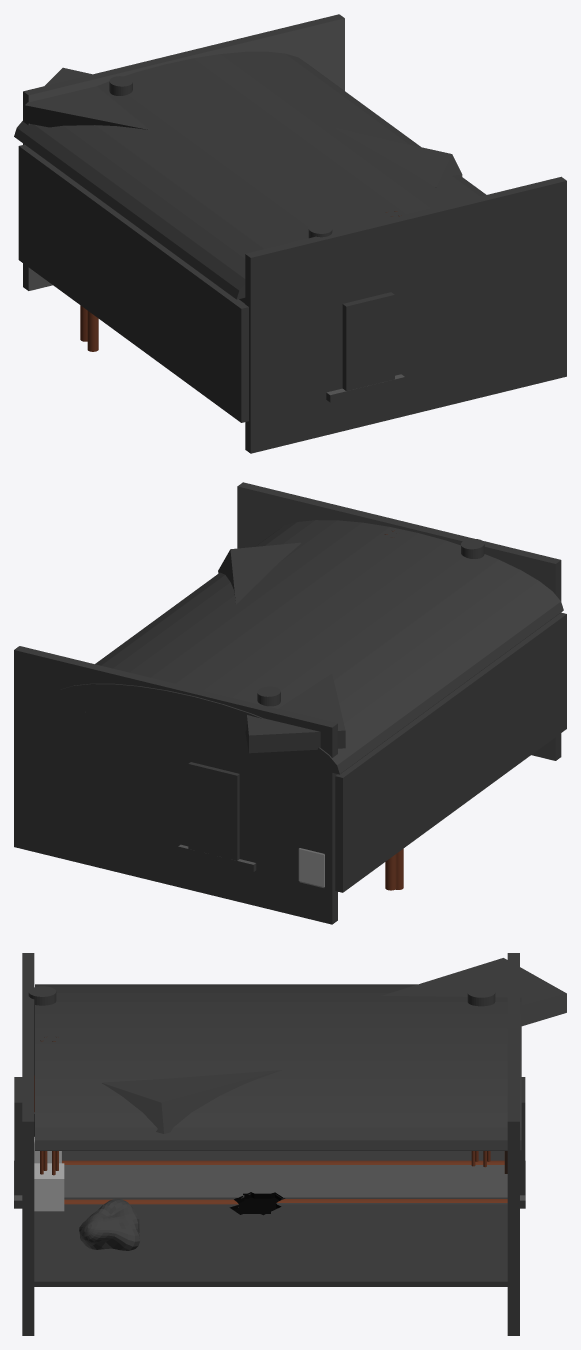
The model's file is salaabandonadajunta.fbx.
The picture shows the model from 3 angles, top to bottom: view 1: azimuth 30°, elevation 25°; view 2: azimuth 150°, elevation 25°; view 3: azimuth 270°, elevation 25°; orthographic projection. The views are drawn at different scales.
Visible parts, largest first — view 1: sala; view 2: sala; view 3: sala.
Boxes of the visible parts, x1,y1,x2,y2 form: sala: (14,14,566,453); sala: (14,482,566,924); sala: (14,953,566,1335).
Size of the model in its own units: 6736 by 4213 by 9091.
